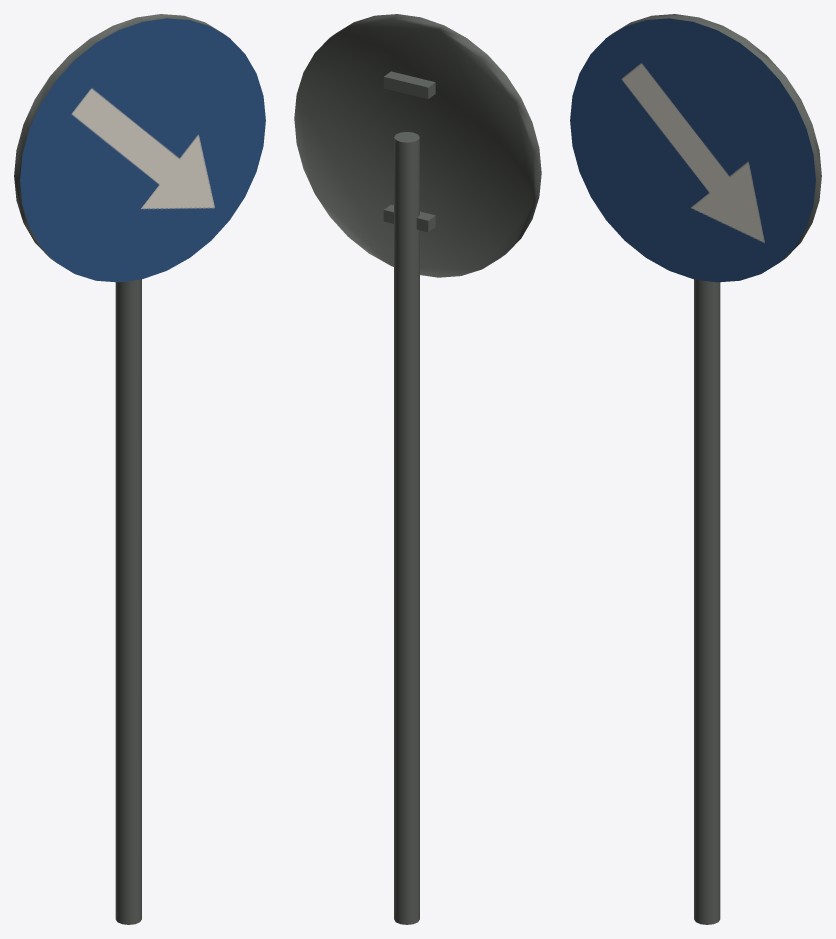
File: MS_SG_12_KeepRight.glb
The picture shows the model from 3 angles, left to right: view 1: azimuth 30°, elevation 25°; view 2: azimuth 150°, elevation 25°; view 3: azimuth 330°, elevation 25°; orthographic projection.
Parts seen in each view (by area): view 1: SignFace, _MeshInstance3D_79, _MeshInstance3D_81; view 2: _MeshInstance3D_81, _MeshInstance3D_79, _MeshInstance3D_83, _MeshInstance3D_82; view 3: SignFace, _MeshInstance3D_79, _MeshInstance3D_81.
Boxes of the visible parts, box(x1,y1,x2,y2) form: SignFace: box(20, 18, 265, 282); _MeshInstance3D_79: box(115, 279, 141, 924); _MeshInstance3D_81: box(14, 14, 227, 261); _MeshInstance3D_81: box(294, 14, 541, 277); _MeshInstance3D_79: box(394, 132, 419, 924); _MeshInstance3D_83: box(383, 71, 435, 98); _MeshInstance3D_82: box(383, 204, 435, 232); SignFace: box(570, 18, 815, 282); _MeshInstance3D_79: box(694, 279, 720, 924); _MeshInstance3D_81: box(608, 14, 821, 261).
Size of the model in its own units: 0.7594 by 2.68 by 0.111.
Materials: 2 (1 with a texture image).
